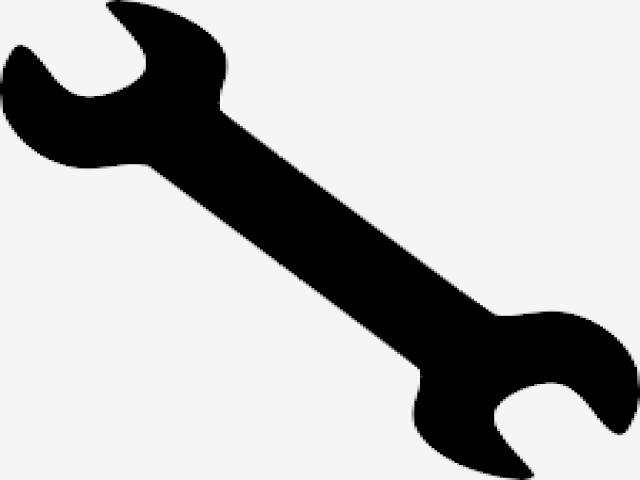Wrench: (0, 0, 639, 478)
